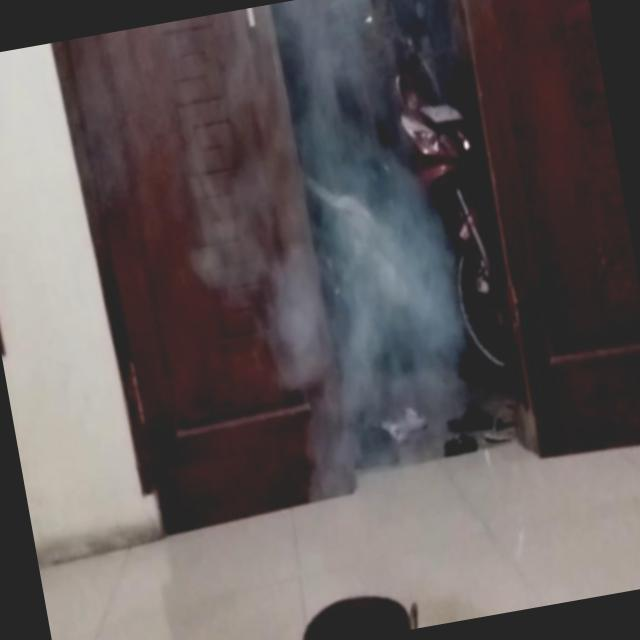smoke: (225, 0, 486, 526)
